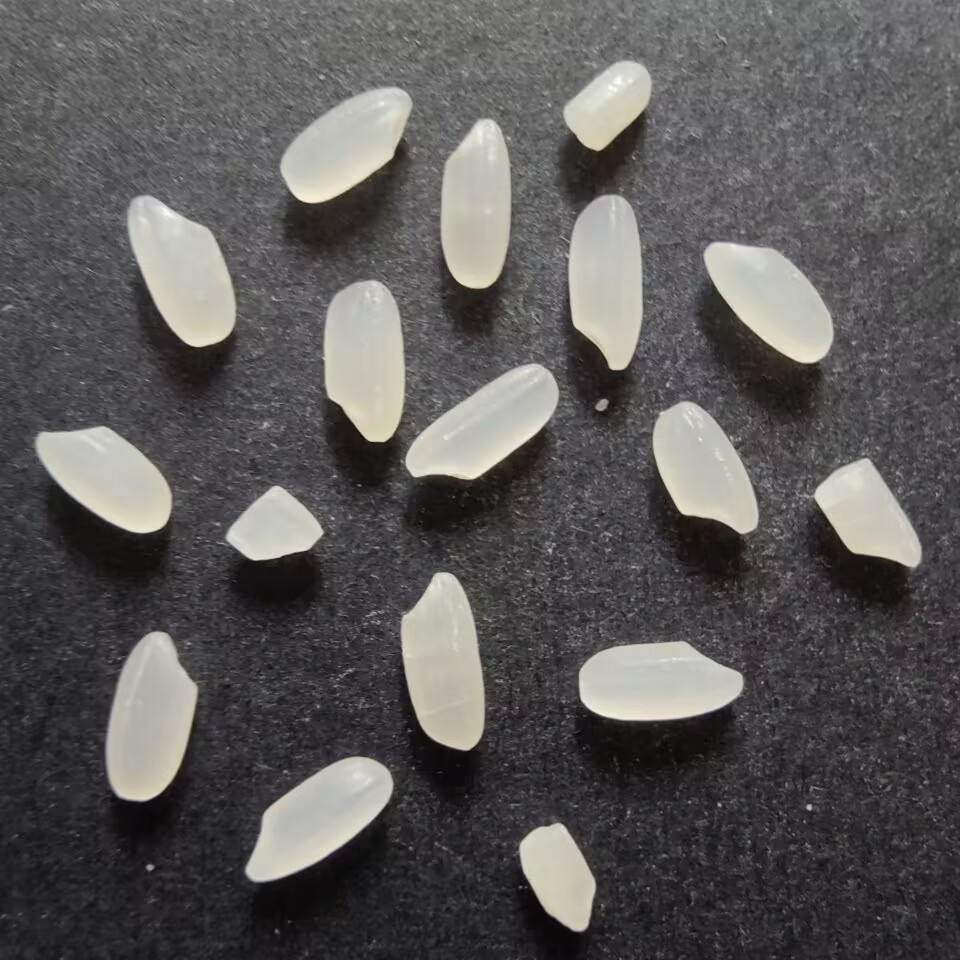broken: (808, 454, 925, 575), (516, 820, 602, 938), (559, 57, 658, 159), (220, 480, 329, 564)
rice: (238, 754, 395, 891), (401, 363, 562, 487), (123, 193, 243, 349), (392, 565, 490, 753), (699, 236, 838, 366), (103, 623, 197, 807), (276, 84, 414, 209), (29, 424, 178, 538), (647, 400, 763, 539), (561, 191, 648, 376), (574, 636, 747, 724), (319, 277, 408, 446), (435, 114, 516, 291)
